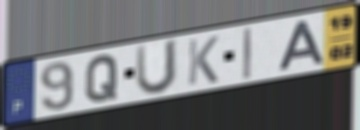9: (37, 60, 76, 113)
A: (276, 18, 327, 73)
I: (242, 25, 254, 81)
K: (186, 34, 221, 88)
Q: (83, 53, 121, 104)
U: (133, 36, 181, 97)
